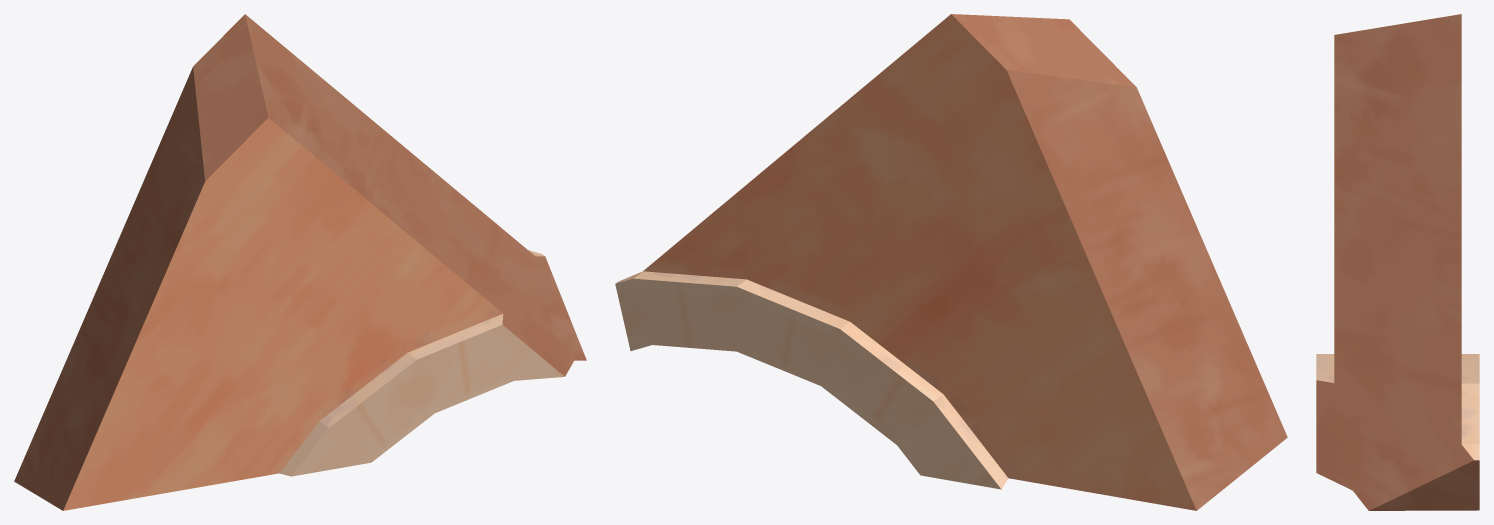
File: wall2_door_s08.fbx
3 renders of one model, left to right at view 1: azimuth 30°, elevation 25°; view 2: azimuth 150°, elevation 25°; view 3: azimuth 270°, elevation 25°, orthographic. The views are drawn at different scales.
Parts seen in each view (by area): view 1: wall2_door_s08; view 2: wall2_door_s08; view 3: wall2_door_s08.
Boxes of the visible parts, box(x1,y1,x2,y2) form: wall2_door_s08: box(14, 14, 586, 510); wall2_door_s08: box(615, 14, 1287, 510); wall2_door_s08: box(1316, 14, 1479, 510).
Size of the model in its own units: 4.77 by 3.54 by 1.28.
